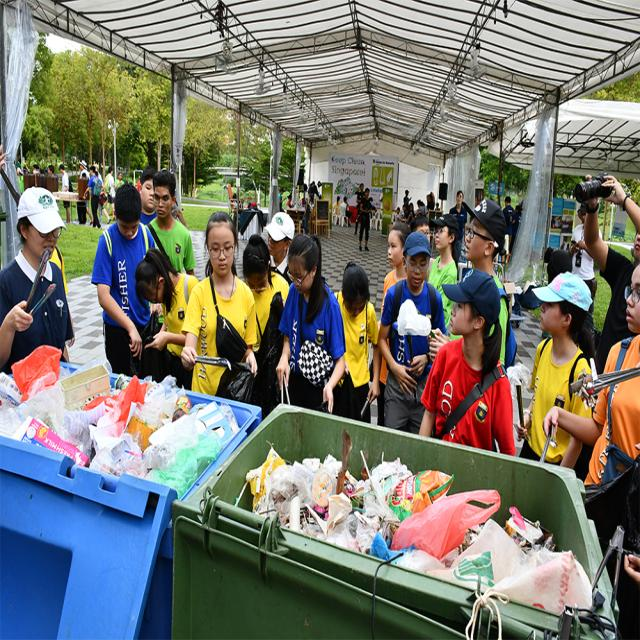bin_full: (181, 411, 627, 640), (1, 388, 258, 637)
normal_waste: (71, 380, 231, 488), (234, 429, 322, 522), (392, 488, 498, 560), (16, 380, 70, 436), (156, 374, 178, 396)
